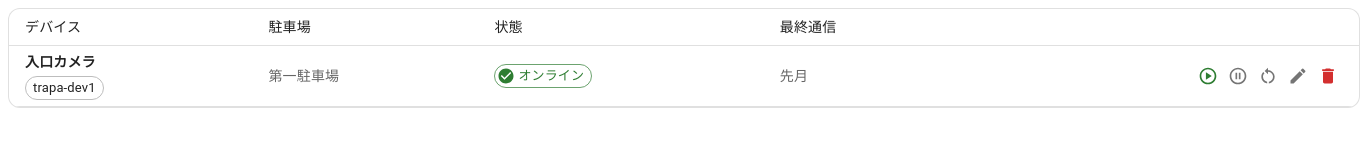
Test: DeviceTable › 編集中にキャンセルすると、変更を保存せず編集前の表示に戻ることを確認する
This screenshot has width=1366, height=165.
Click the button with test id "EditIcon".
click(1298, 76)  # box [1283, 61, 1313, 91]
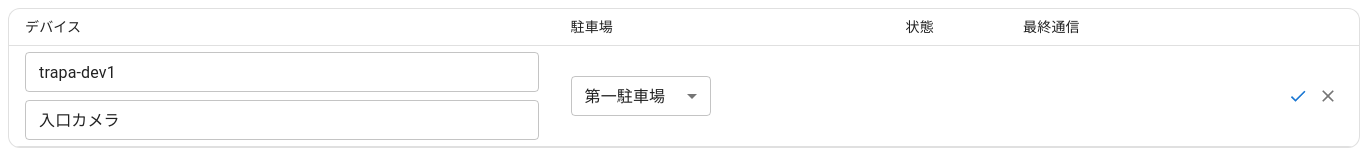
Click the button with test id "CloseIcon".
click(1328, 96)  # box [1313, 81, 1343, 111]
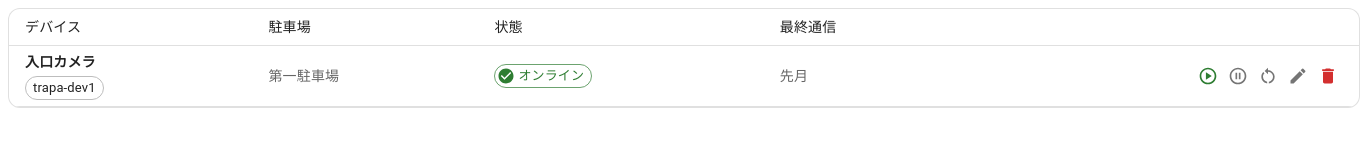
expect the text "入口カメラ" is shown: met, box [25, 54, 96, 70]
